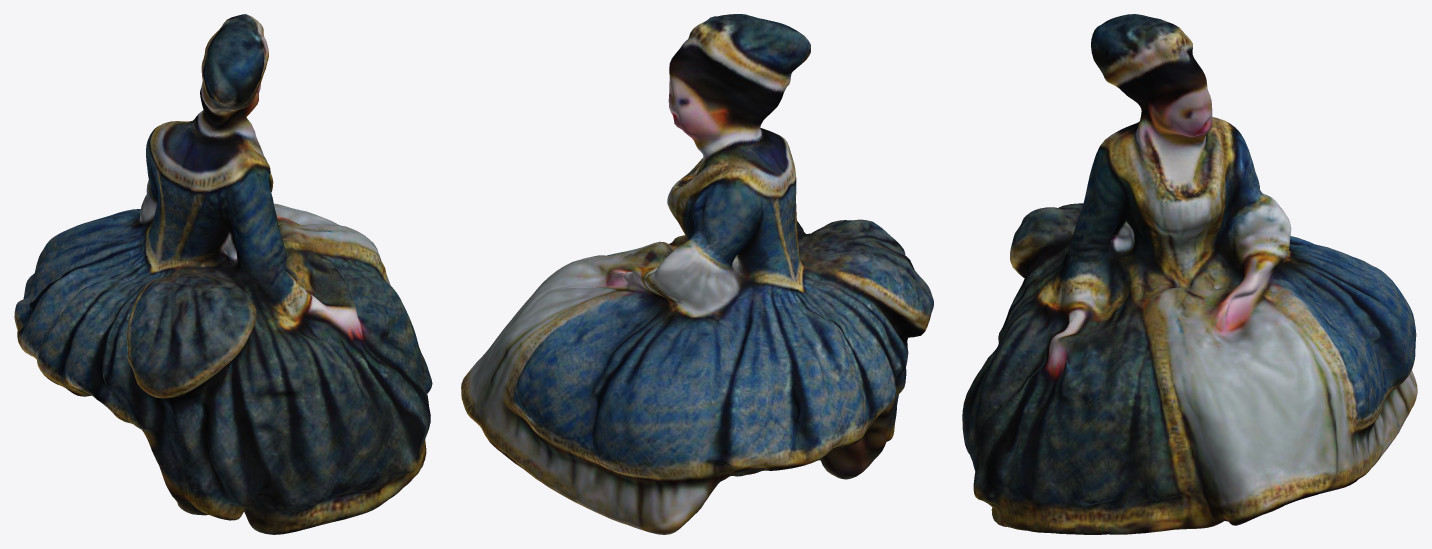
The model's file is e8b8cf7f897c_noble_parisian_wome.fbx.
The picture shows the model from 3 angles, left to right: view 1: azimuth 30°, elevation 25°; view 2: azimuth 150°, elevation 25°; view 3: azimuth 270°, elevation 25°; orthographic projection. The views are drawn at different scales.
Parts seen in each view (by area): view 1: high_poly; view 2: high_poly; view 3: high_poly.
Part boxes in pixels (box(x1,y1,x2,y2)): high_poly: box(14, 14, 432, 534); high_poly: box(461, 14, 933, 534); high_poly: box(962, 14, 1417, 534).
Size of the model in its own units: 84.3 by 100 by 85.86.
